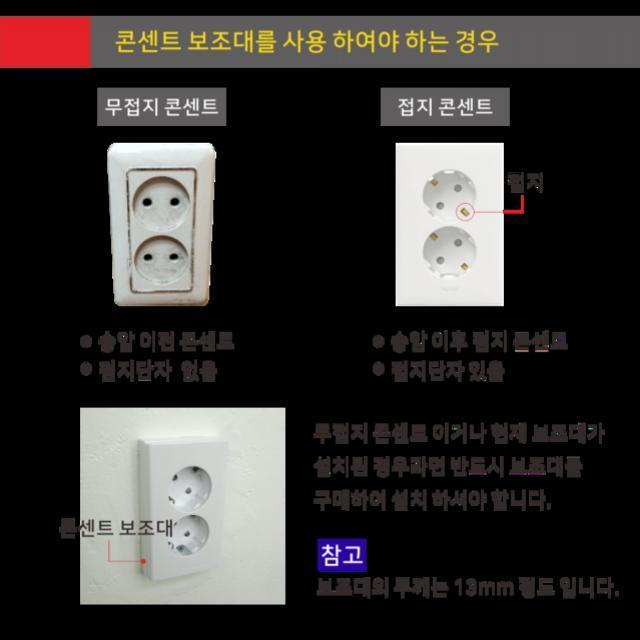typeb: (103, 140, 229, 317), (384, 141, 510, 317), (129, 435, 250, 576)
